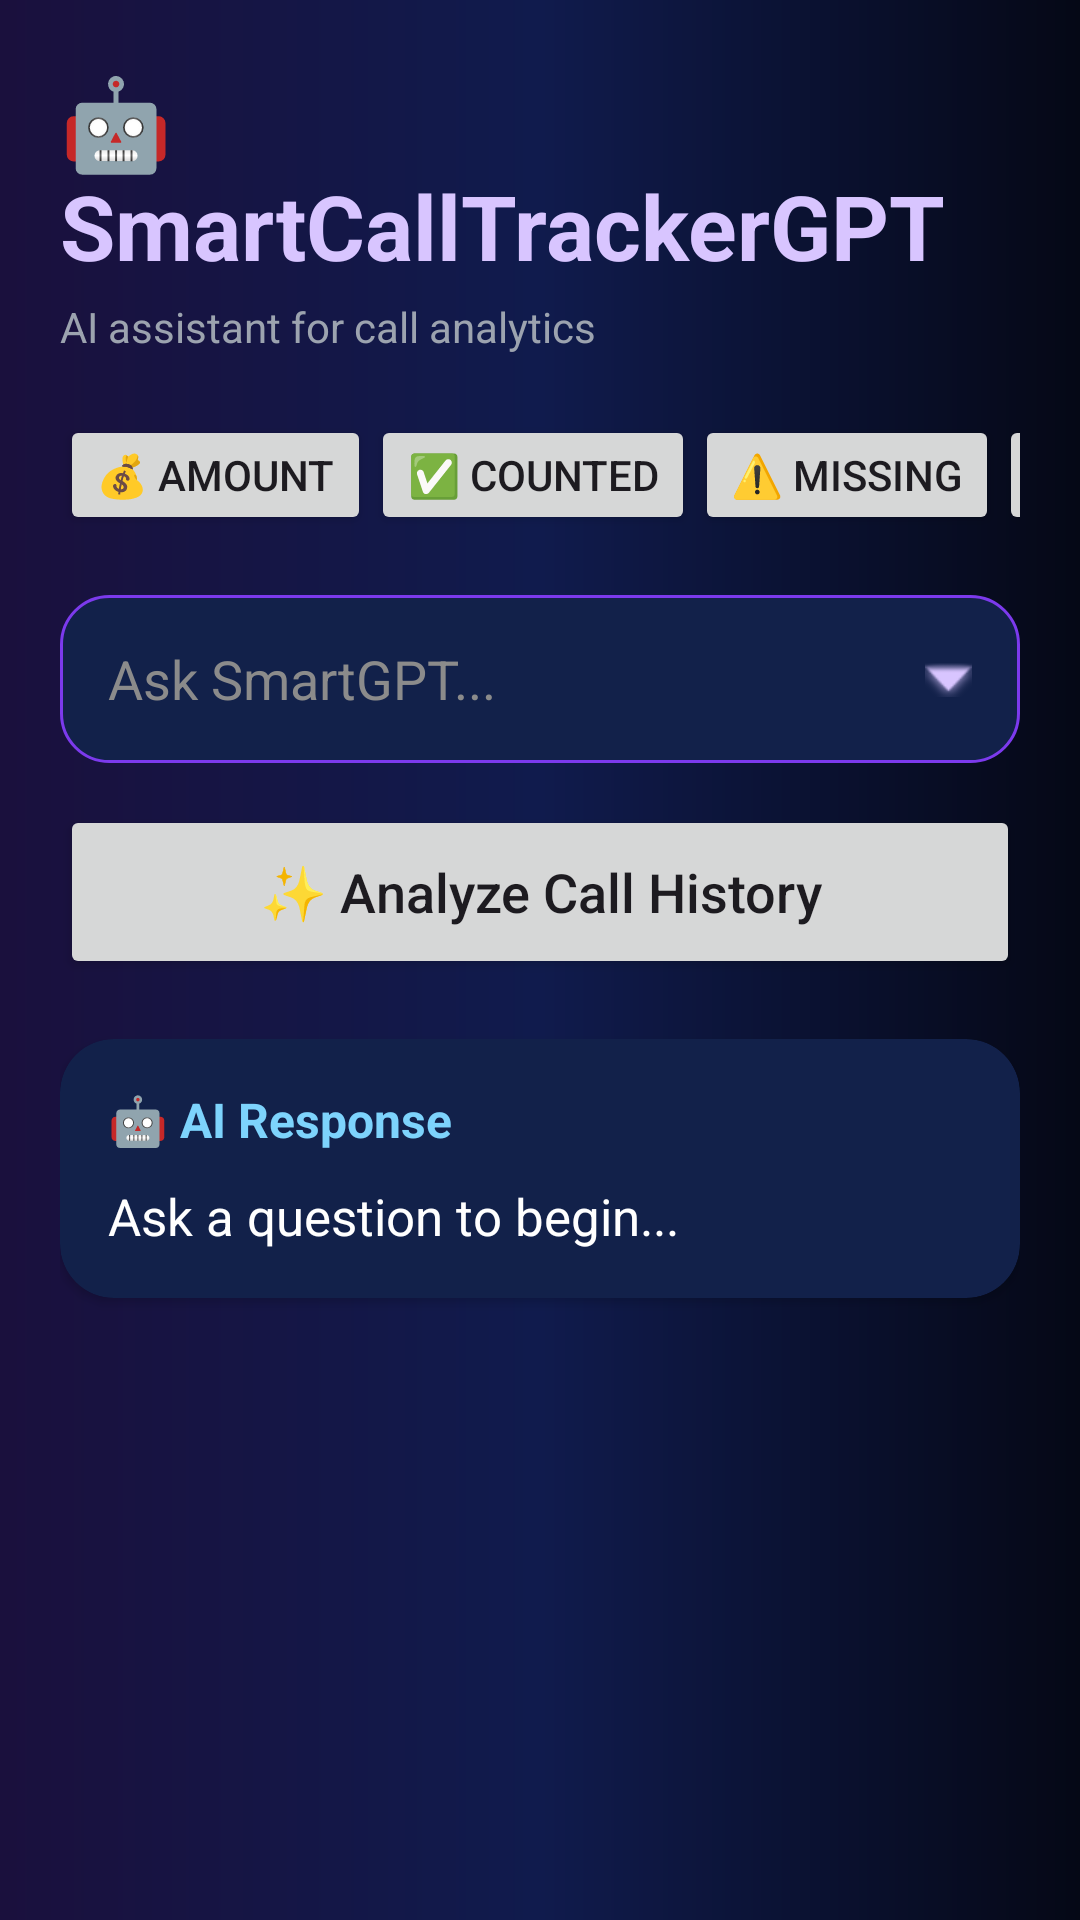

Where icons sit on this 1080w x 1920h app screen, as (x1, y1, x2, y2):
arrow down float: (925, 664, 972, 695)
